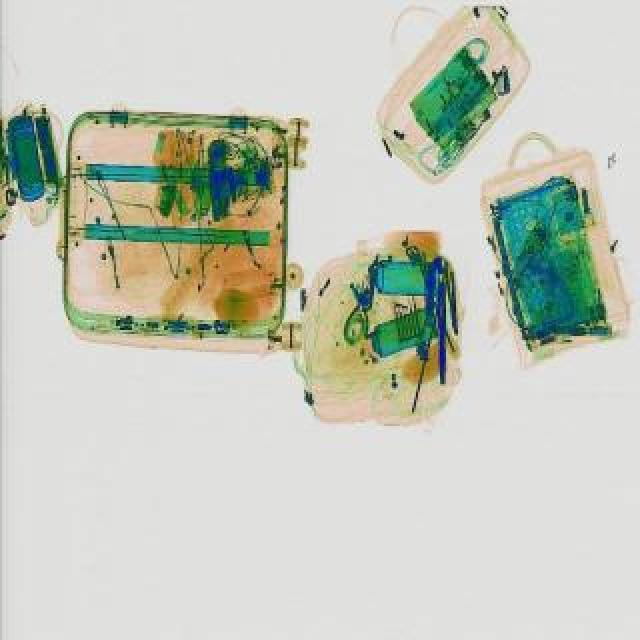wrench: (442, 262, 458, 338)
